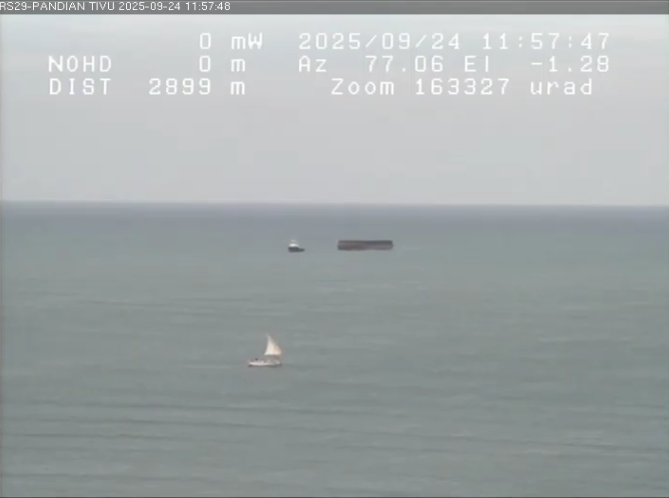BARGE: (332, 234, 422, 258)
OFFSHORE_SUPPLY_VESSEL: (283, 239, 315, 263)
SAIL_BOAT: (241, 329, 294, 374)
TOWING: (259, 213, 451, 282)
